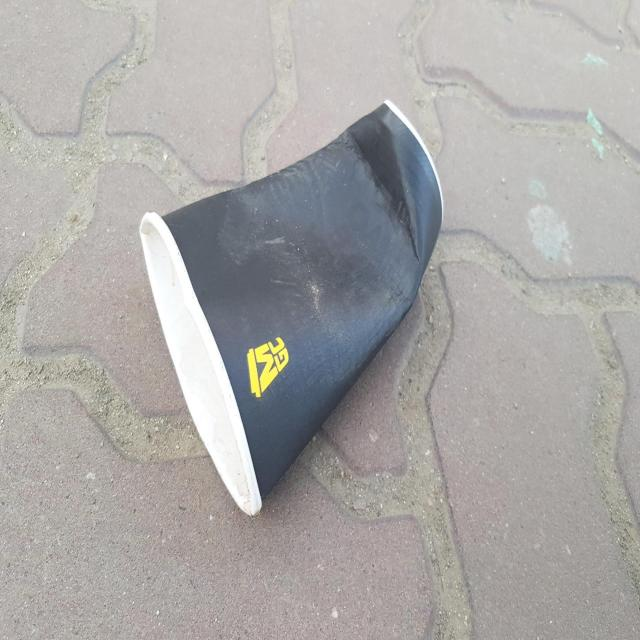paperpack: (139, 100, 444, 515)
